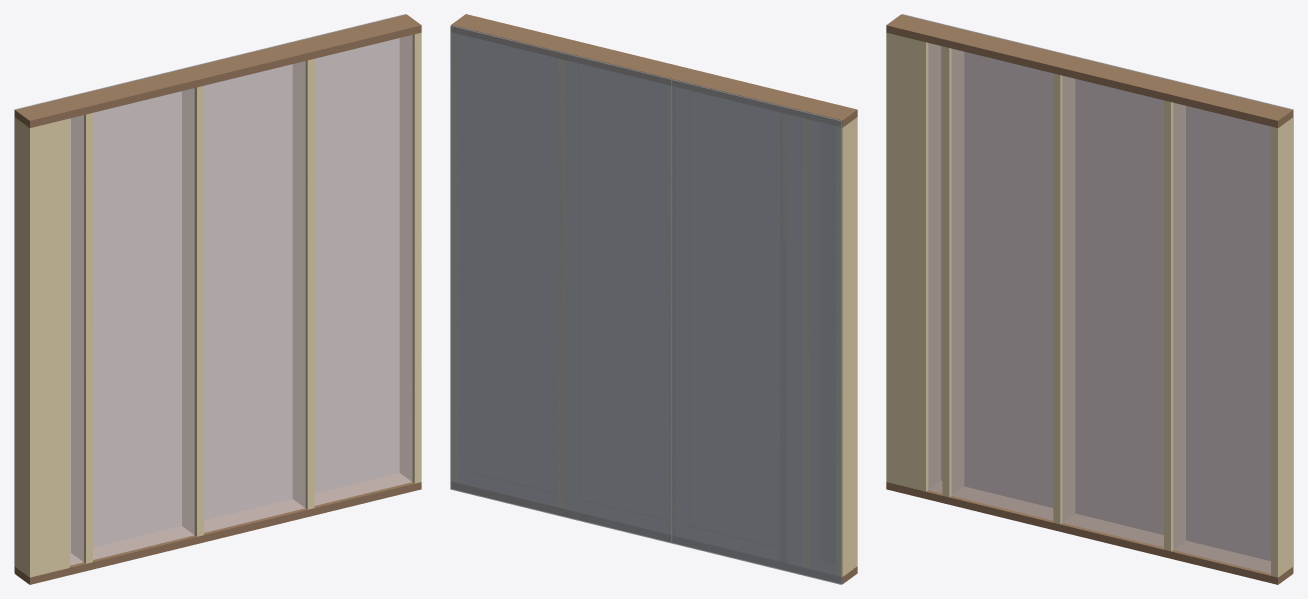
3 renders of one model, left to right at view 1: azimuth 30°, elevation 25°; view 2: azimuth 150°, elevation 25°; view 3: azimuth 330°, elevation 25°, orthographic.
Visible parts, largest first — view 1: EX1 FF; view 2: EX1 FF; view 3: EX1 FF.
Part boxes in pixels (left/top/right/bottom): EX1 FF: left=14, top=14, right=421, bottom=584; EX1 FF: left=450, top=14, right=857, bottom=584; EX1 FF: left=886, top=14, right=1293, bottom=584.
Size of the model in its own units: 2.12 by 2.4 by 0.149.
